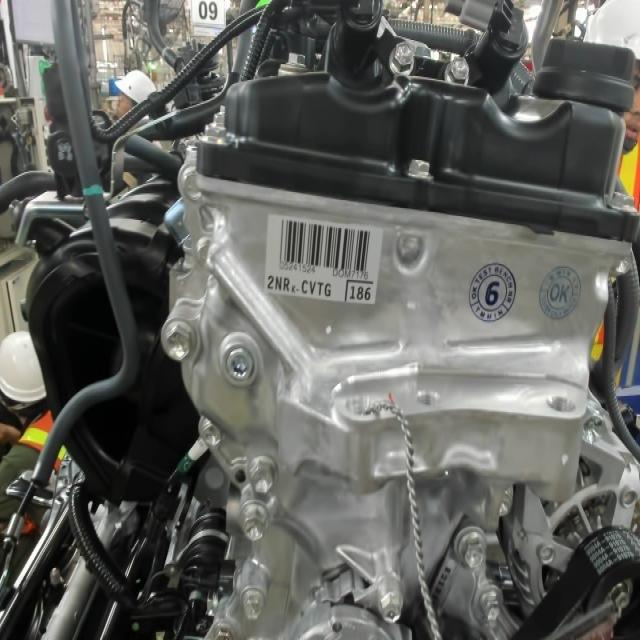Engine Assy-186: (340, 278, 380, 307)
Hose Canister-HJ: (80, 177, 106, 205)
